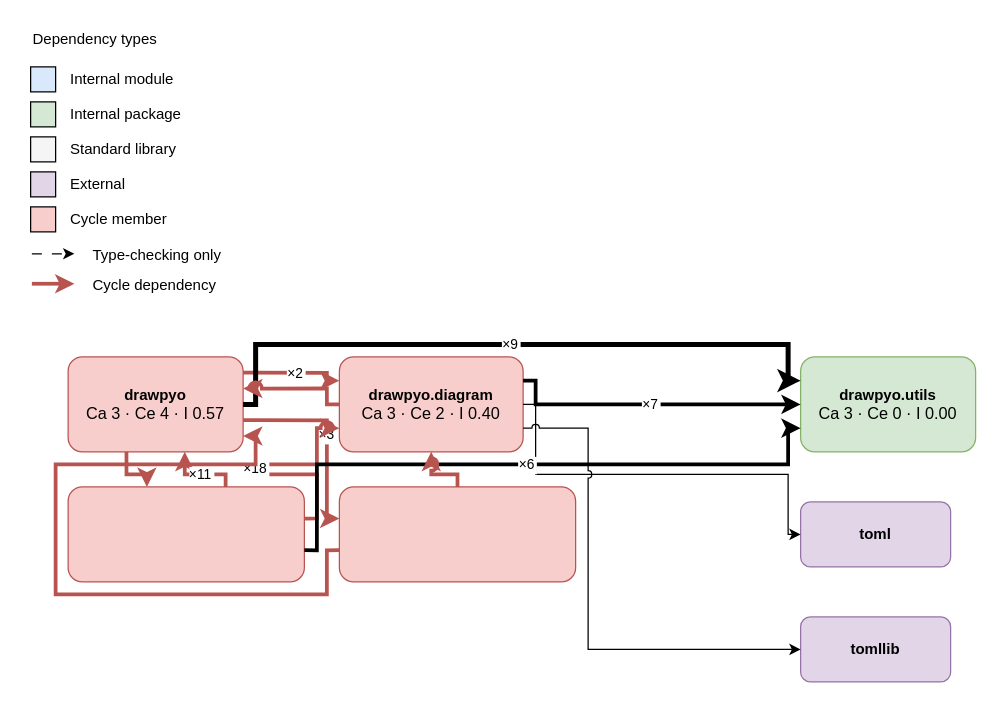
Some shapes in this 998 by 704 pixel diagram are drawn without their labels. Each missing label, with the centre of its shape:
drawpyo.diagram_types Ca 1 · Ce 3 · I 0.75: the point at 185,534
drawpyo.drawio_import Ca 1 · Ce 2 · I 0.67: the point at 457,534
